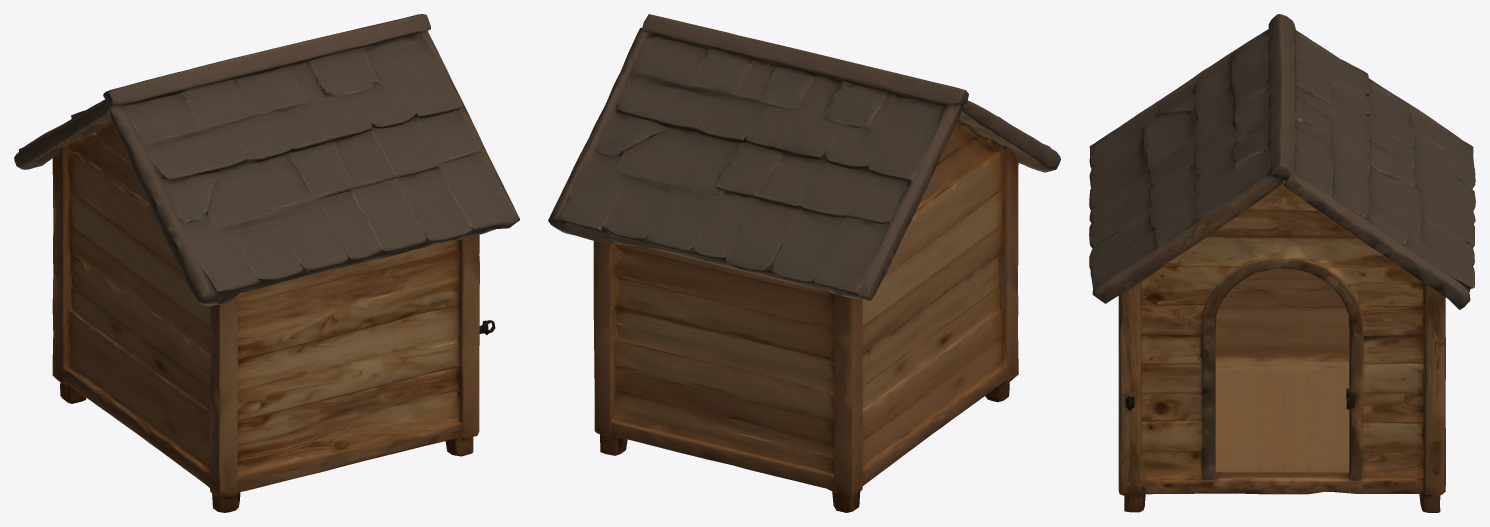
Rendered from doghouse-generic.glb.
3 views of the same model, side by side, from view 1: azimuth 30°, elevation 25°; view 2: azimuth 150°, elevation 25°; view 3: azimuth 270°, elevation 25° (orthographic). The views are drawn at different scales.
Parts seen in each view (by area): view 1: tripo_node_5d9f2dfc-6bdf-46bd-ba81-3f8751d6e368; view 2: tripo_node_5d9f2dfc-6bdf-46bd-ba81-3f8751d6e368; view 3: tripo_node_5d9f2dfc-6bdf-46bd-ba81-3f8751d6e368.
Boxes of the visible parts, x1,y1,x2,y2 form: tripo_node_5d9f2dfc-6bdf-46bd-ba81-3f8751d6e368: (14,14,519,512); tripo_node_5d9f2dfc-6bdf-46bd-ba81-3f8751d6e368: (548,14,1060,512); tripo_node_5d9f2dfc-6bdf-46bd-ba81-3f8751d6e368: (1089,14,1475,512).
Bounding box in the file's own units: 1.08 × 1.2 × 1.15.
1 material, 1 textured.
